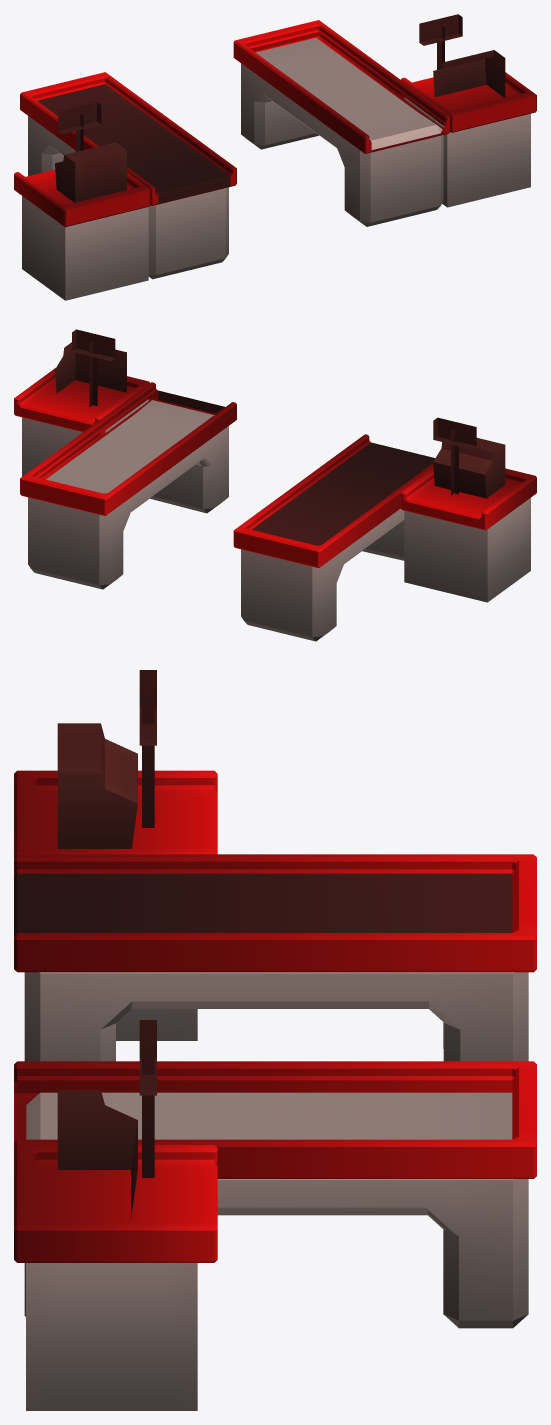
Rendered from CashierDesk.fbx.
3 renders of one model, top to bottom at view 1: azimuth 30°, elevation 25°; view 2: azimuth 150°, elevation 25°; view 3: azimuth 270°, elevation 25°, orthographic. The views are drawn at different scales.
Visible parts, largest first — view 1: pCube10, pCube2, pCube3, pCube1, pCube11, pCube12, pCube13, pCube4, pCube6, pCube14, pCube15, pCube16; view 2: pCube10, pCube2, pCube3, pCube1, pCube11, pCube4, pCube13, pCube6, pCube14, pCube12, pCube15, pCube16; view 3: pCube2, pCube10, pCube11, pCube1, pCube12, pCube13, pCube4, pCube6, pCube14, pCube15, pCube16, pCube3.
Part boxes in pixels (x1,y1,x2,y2): pCube10: [241, 38, 443, 226]; pCube2: [20, 72, 236, 205]; pCube3: [22, 196, 148, 300]; pCube1: [28, 116, 228, 279]; pCube11: [233, 20, 450, 153]; pCube12: [404, 97, 530, 207]; pCube13: [400, 72, 536, 132]; pCube4: [14, 169, 150, 227]; pCube6: [55, 142, 126, 202]; pCube14: [433, 50, 505, 97]; pCube15: [419, 14, 462, 69]; pCube16: [58, 102, 101, 151]; pCube10: [28, 400, 228, 589]; pCube2: [233, 434, 435, 568]; pCube3: [404, 498, 530, 602]; pCube1: [241, 508, 404, 641]; pCube11: [20, 382, 236, 515]; pCube4: [400, 468, 536, 530]; pCube13: [14, 368, 150, 434]; pCube6: [433, 438, 505, 498]; pCube14: [55, 342, 126, 393]; pCube12: [22, 399, 148, 476]; pCube15: [72, 329, 115, 406]; pCube16: [433, 417, 476, 495]; pCube2: [14, 854, 536, 972]; pCube10: [24, 1092, 528, 1328]; pCube11: [14, 1061, 536, 1178]; pCube1: [24, 972, 528, 1061]; pCube12: [26, 1263, 197, 1410]; pCube13: [14, 1145, 217, 1262]; pCube4: [14, 770, 217, 856]; pCube6: [57, 723, 137, 848]; pCube14: [57, 1090, 137, 1219]; pCube15: [139, 1020, 156, 1177]; pCube16: [139, 670, 156, 827]; pCube3: [116, 1009, 197, 1040].
Bounding box in the file's own units: 24.28 × 7.93 × 11.7.
Materials: 4 (4 with a texture image).
